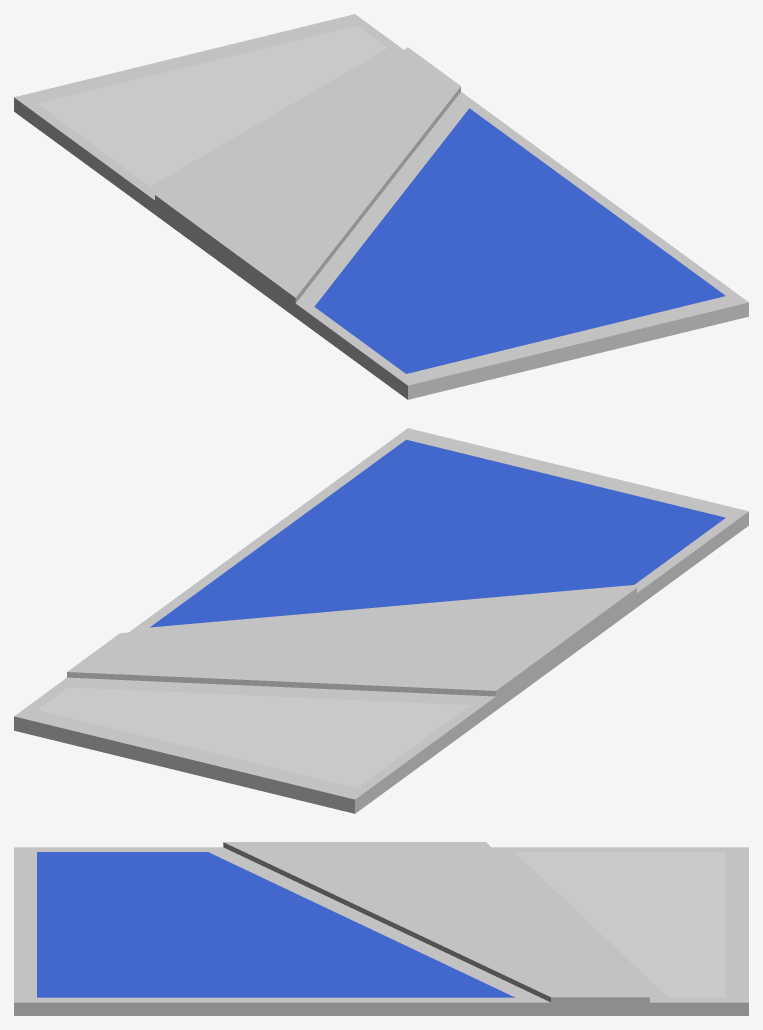
Rendered from AudioCard.fbx.
3 views of the same model, one above another, from view 1: azimuth 30°, elevation 25°; view 2: azimuth 150°, elevation 25°; view 3: azimuth 270°, elevation 25° (orthographic). The views are drawn at different scales.
Parts seen in each view (by area): view 1: AudioCard; view 2: AudioCard; view 3: AudioCard.
Boxes of the visible parts, bbox=[...] form: AudioCard: bbox=[14, 14, 748, 399]; AudioCard: bbox=[14, 428, 748, 813]; AudioCard: bbox=[14, 842, 748, 1015].
Bounding box in the file's own units: 10 × 0.5559 × 20.
